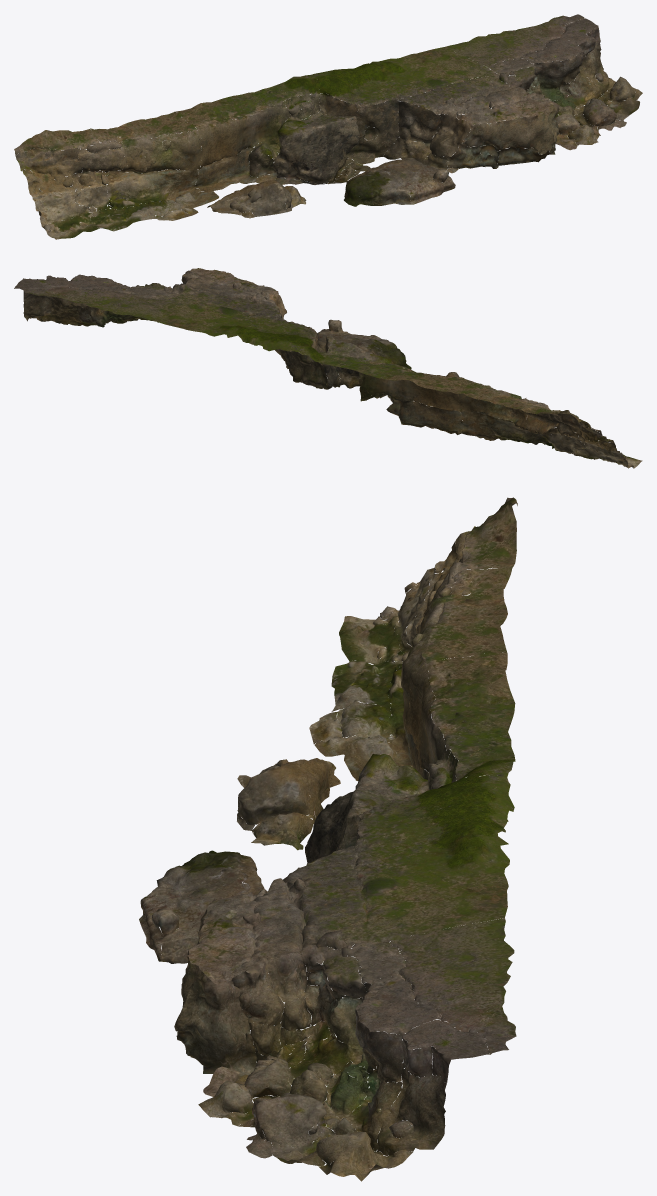
The model's file is coastal_cliff_04.glb.
The picture shows the model from 3 angles, top to bottom: view 1: azimuth 30°, elevation 25°; view 2: azimuth 150°, elevation 25°; view 3: azimuth 270°, elevation 25°; orthographic projection. The views are drawn at different scales.
Visible parts, largest first — view 1: coastal_cliff_04; view 2: coastal_cliff_04; view 3: coastal_cliff_04.
Part boxes in pixels (x1,y1,x2,y2): coastal_cliff_04: [14, 14, 642, 239]; coastal_cliff_04: [14, 268, 642, 468]; coastal_cliff_04: [139, 497, 517, 1181].
Bounding box in the file's own units: 86.77 × 11 × 24.24.
1 material, 1 textured.
